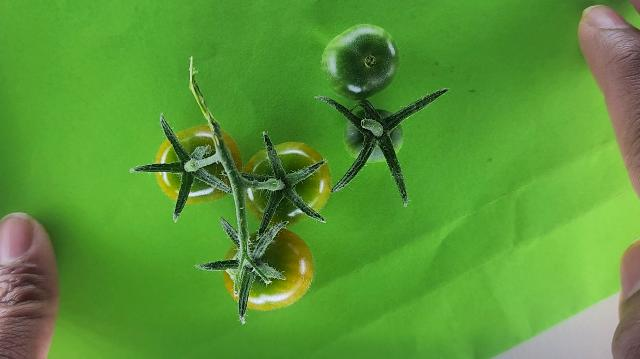Fruit Maturation: (318, 23, 400, 101), (342, 106, 405, 162)
Fully Grown: (222, 227, 314, 311), (242, 142, 331, 227), (152, 125, 241, 204)
